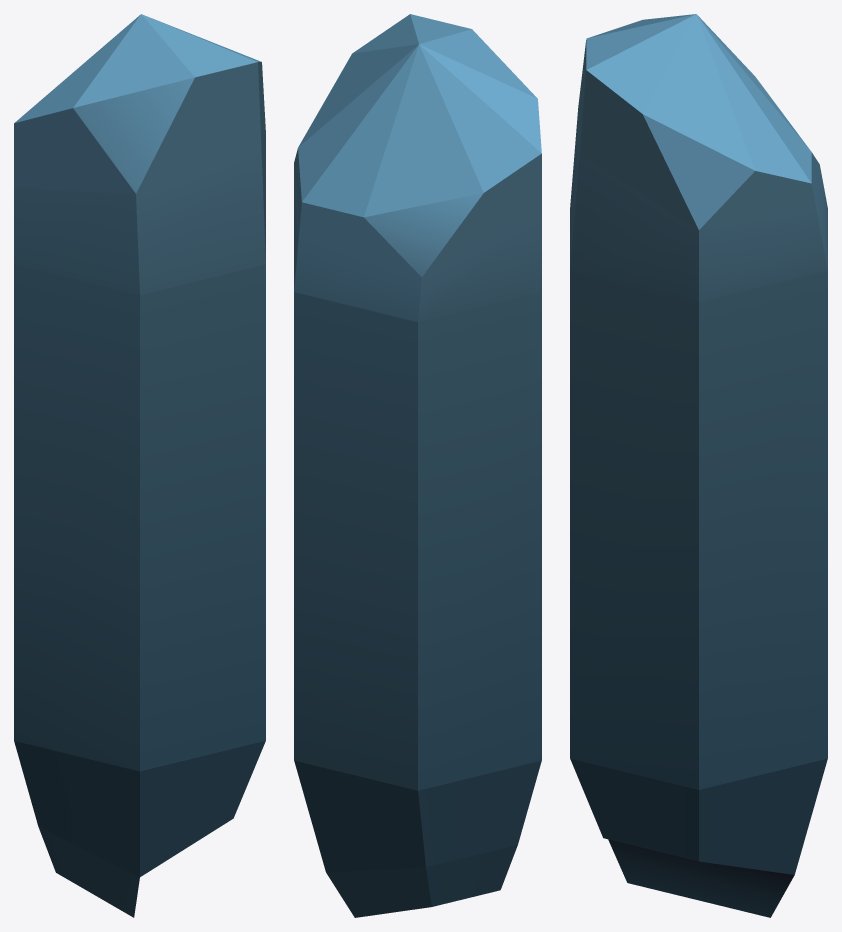
Rendered from geology-crystals-icecrystal_v2.fbx.
The picture shows the model from 3 angles, left to right: view 1: azimuth 30°, elevation 25°; view 2: azimuth 150°, elevation 25°; view 3: azimuth 270°, elevation 25°; orthographic projection. The views are drawn at different scales.
Parts seen in each view (by area): view 1: IceCrystal_v2; view 2: IceCrystal_v2; view 3: IceCrystal_v2.
Boxes of the visible parts, bbox=[...] form: IceCrystal_v2: bbox=[14, 14, 265, 917]; IceCrystal_v2: bbox=[294, 14, 541, 917]; IceCrystal_v2: bbox=[570, 14, 827, 917].
Size of the model in its own units: 2.21 by 7.3 by 1.92.
